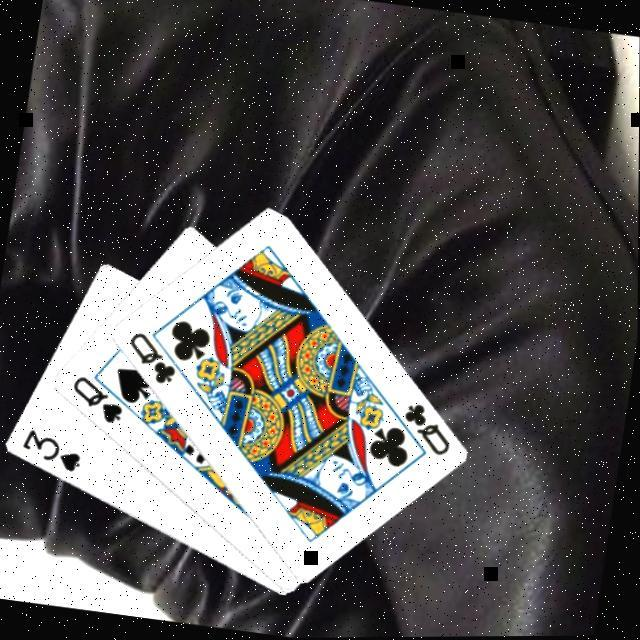3S: (14, 426, 85, 478)
QC: (118, 329, 182, 391), (393, 400, 456, 462)
QS: (62, 373, 128, 431)
